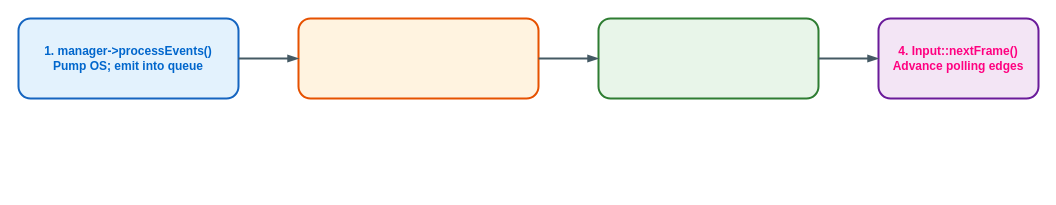
This 1056x205 diagram has some shape labels left out. The shapes that lost their labels are listed below. From the top down, each one's centre as x and y in pixels, then its label:
[418,58]: 2. EventManager::processEvents() Dispatch to listeners
[708,58]: 3. Application frame simulate / onFrame / render
